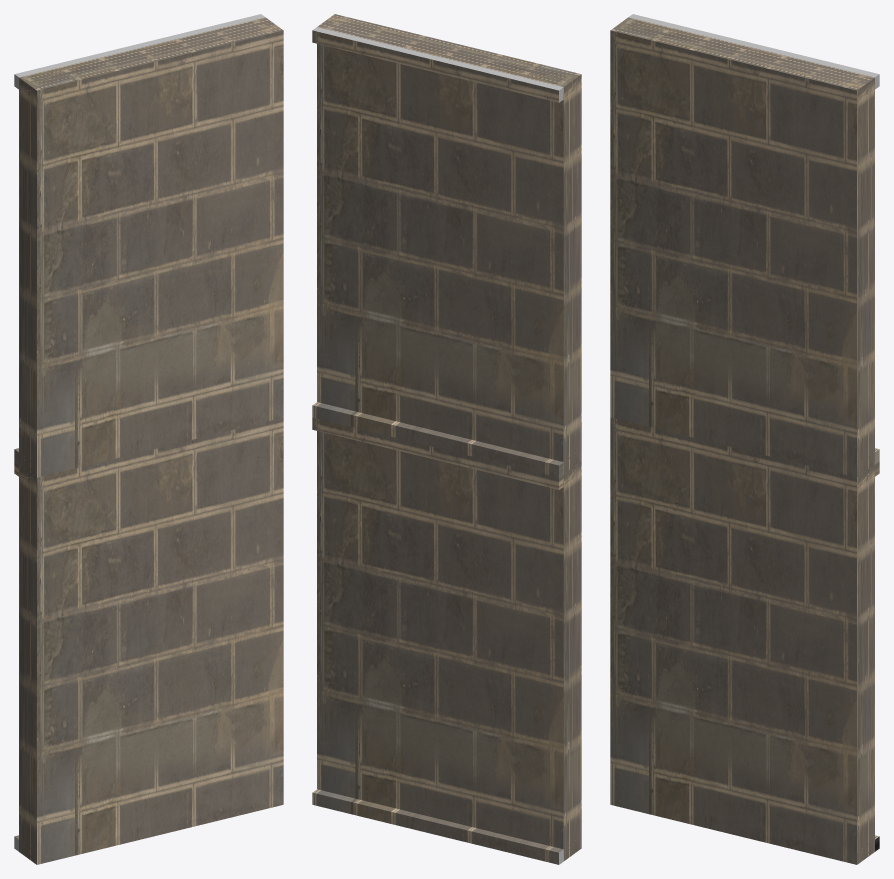
File: Wall_dome_twin.fbx
3 renders of one model, left to right at view 1: azimuth 30°, elevation 25°; view 2: azimuth 150°, elevation 25°; view 3: azimuth 330°, elevation 25°, orthographic.
Parts seen in each view (by area): view 1: Wall_dome_twin; view 2: Wall_dome_twin; view 3: Wall_dome_twin.
Boxes of the visible parts, x1,y1,x2,y2 form: Wall_dome_twin: (14,14,283,864); Wall_dome_twin: (312,14,581,864); Wall_dome_twin: (610,14,879,864).
Size of the model in its own units: 200 by 600 by 31.48.
